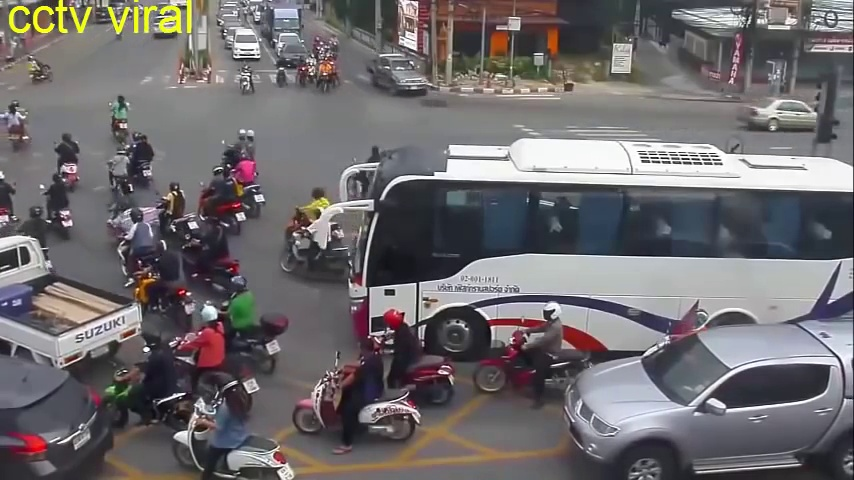car: (350, 141, 854, 354), (1, 234, 148, 377), (1, 346, 118, 479), (740, 93, 824, 133), (373, 49, 425, 104), (233, 28, 259, 63), (281, 42, 310, 72)
motorbike: (172, 374, 294, 480), (303, 336, 416, 445), (476, 307, 593, 404), (166, 302, 253, 415), (359, 311, 457, 409), (100, 336, 196, 425), (208, 276, 280, 371), (178, 215, 245, 297), (132, 241, 192, 330), (286, 210, 353, 282), (287, 182, 345, 252), (116, 209, 159, 281), (197, 166, 243, 233), (159, 186, 202, 246), (225, 154, 263, 217), (44, 175, 73, 238), (56, 132, 82, 189), (127, 132, 154, 183), (9, 102, 30, 157), (107, 153, 132, 198), (111, 98, 130, 143), (240, 63, 258, 98), (275, 55, 290, 89), (319, 59, 332, 95)
